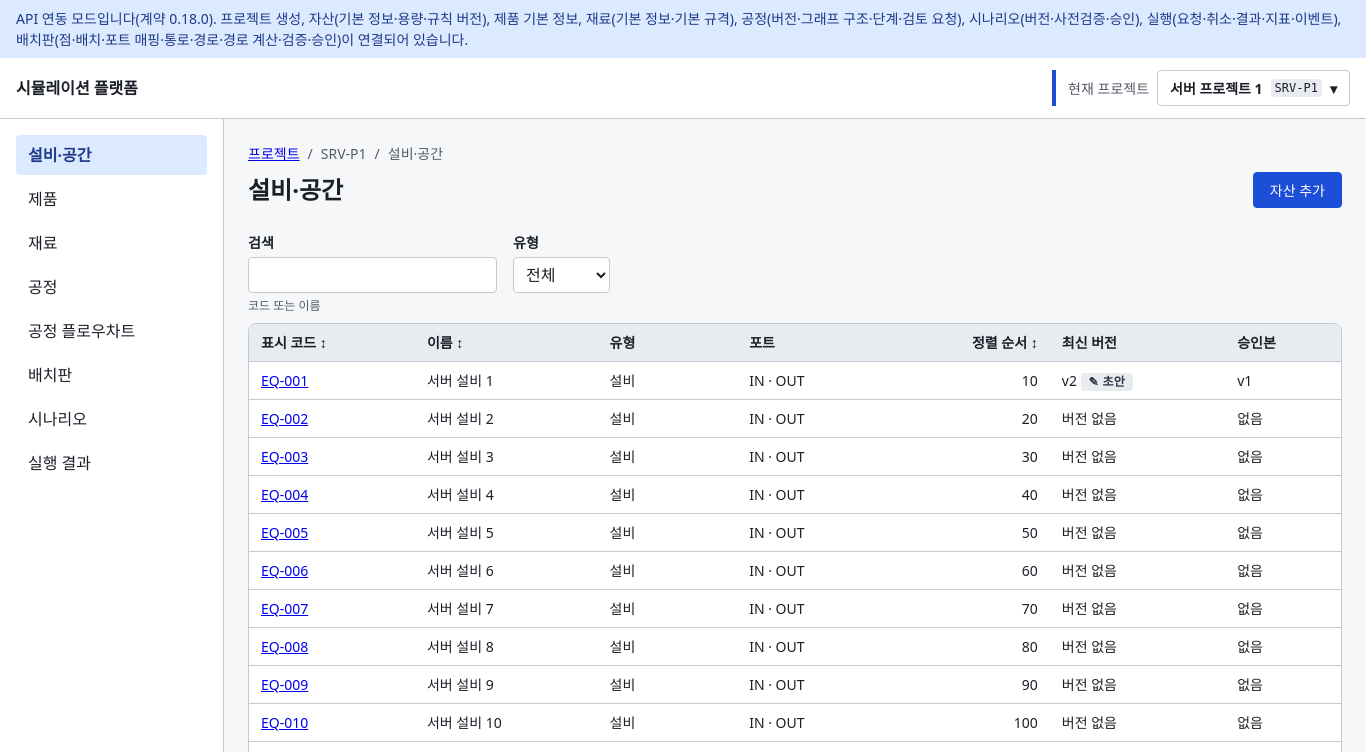
Test: API 모드: 앱 셸과 프로젝트 › 보관된 프로젝트(/me status=archived)는 전환 메뉴에 포함하되 보관됨을 표시한다(계약 0.3.0)
Click the button with aria-label "프로젝트 전환": (1254, 88) x1=1157 y1=70 x2=1350 y2=106
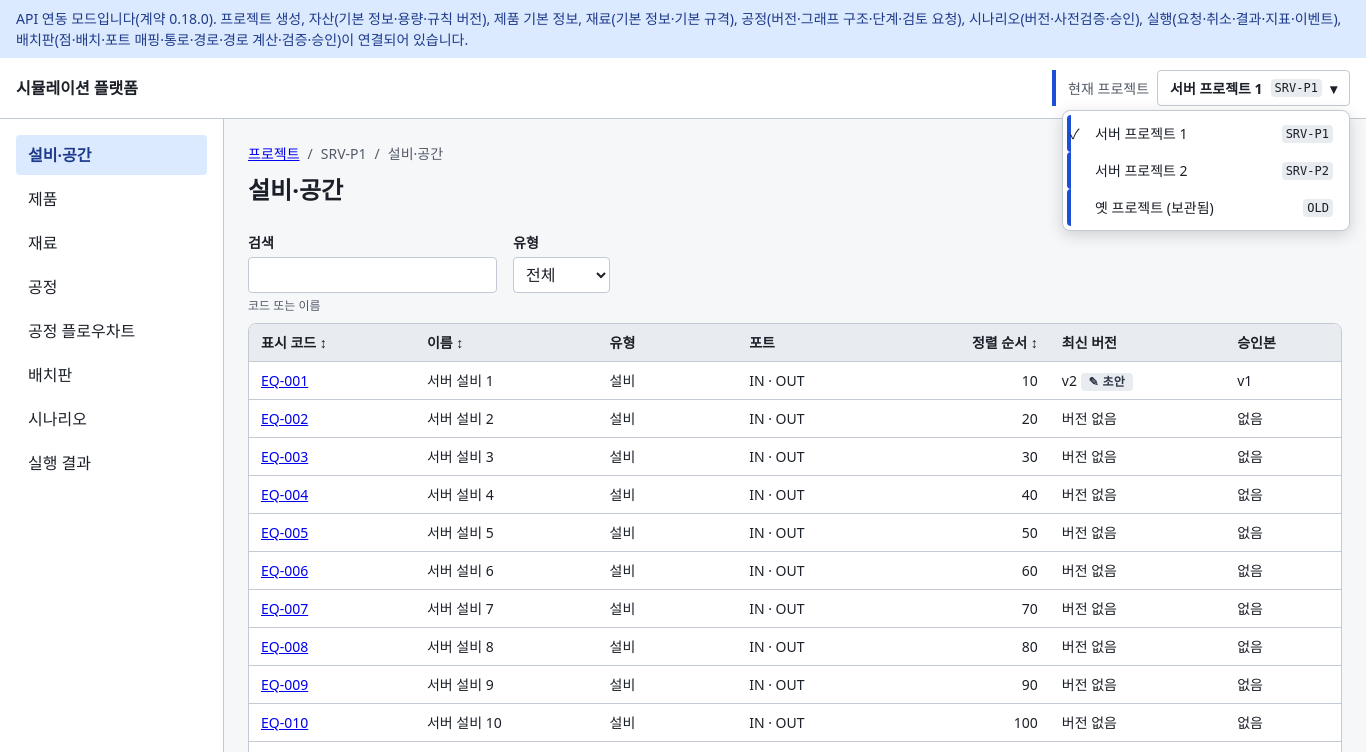
Now the text "옛 프로젝트 (보관됨)" is shown, box x1=1095 y1=198 x2=1214 y2=217
